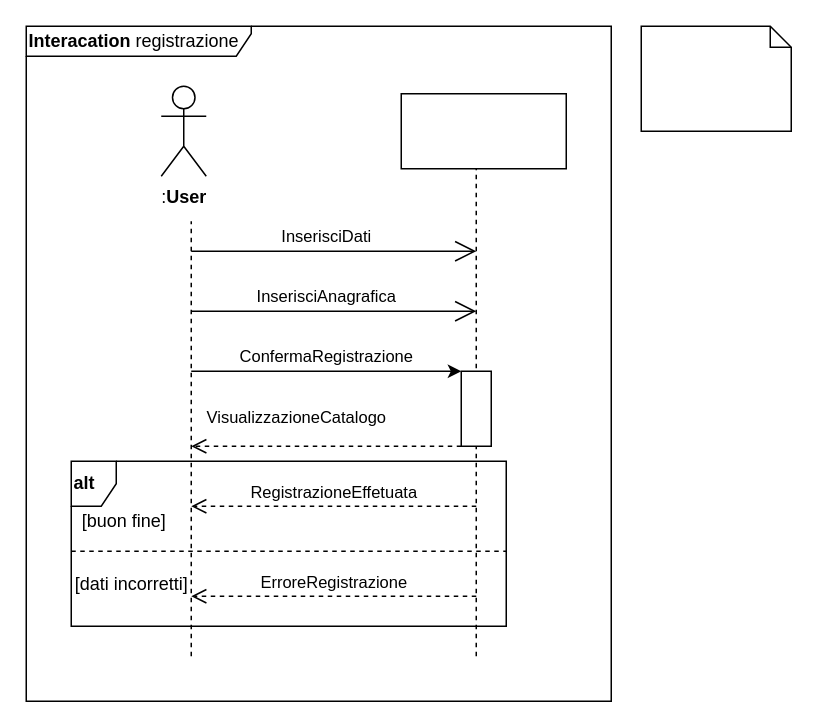
This 818x728 diagram has some shape labels left out. Here are the shapes that lost their labels. From the top down, the centre of each, then its label:
the point at 715,78: InserisciDati = Inserisci email e password
the point at 483,130: :Sistema
